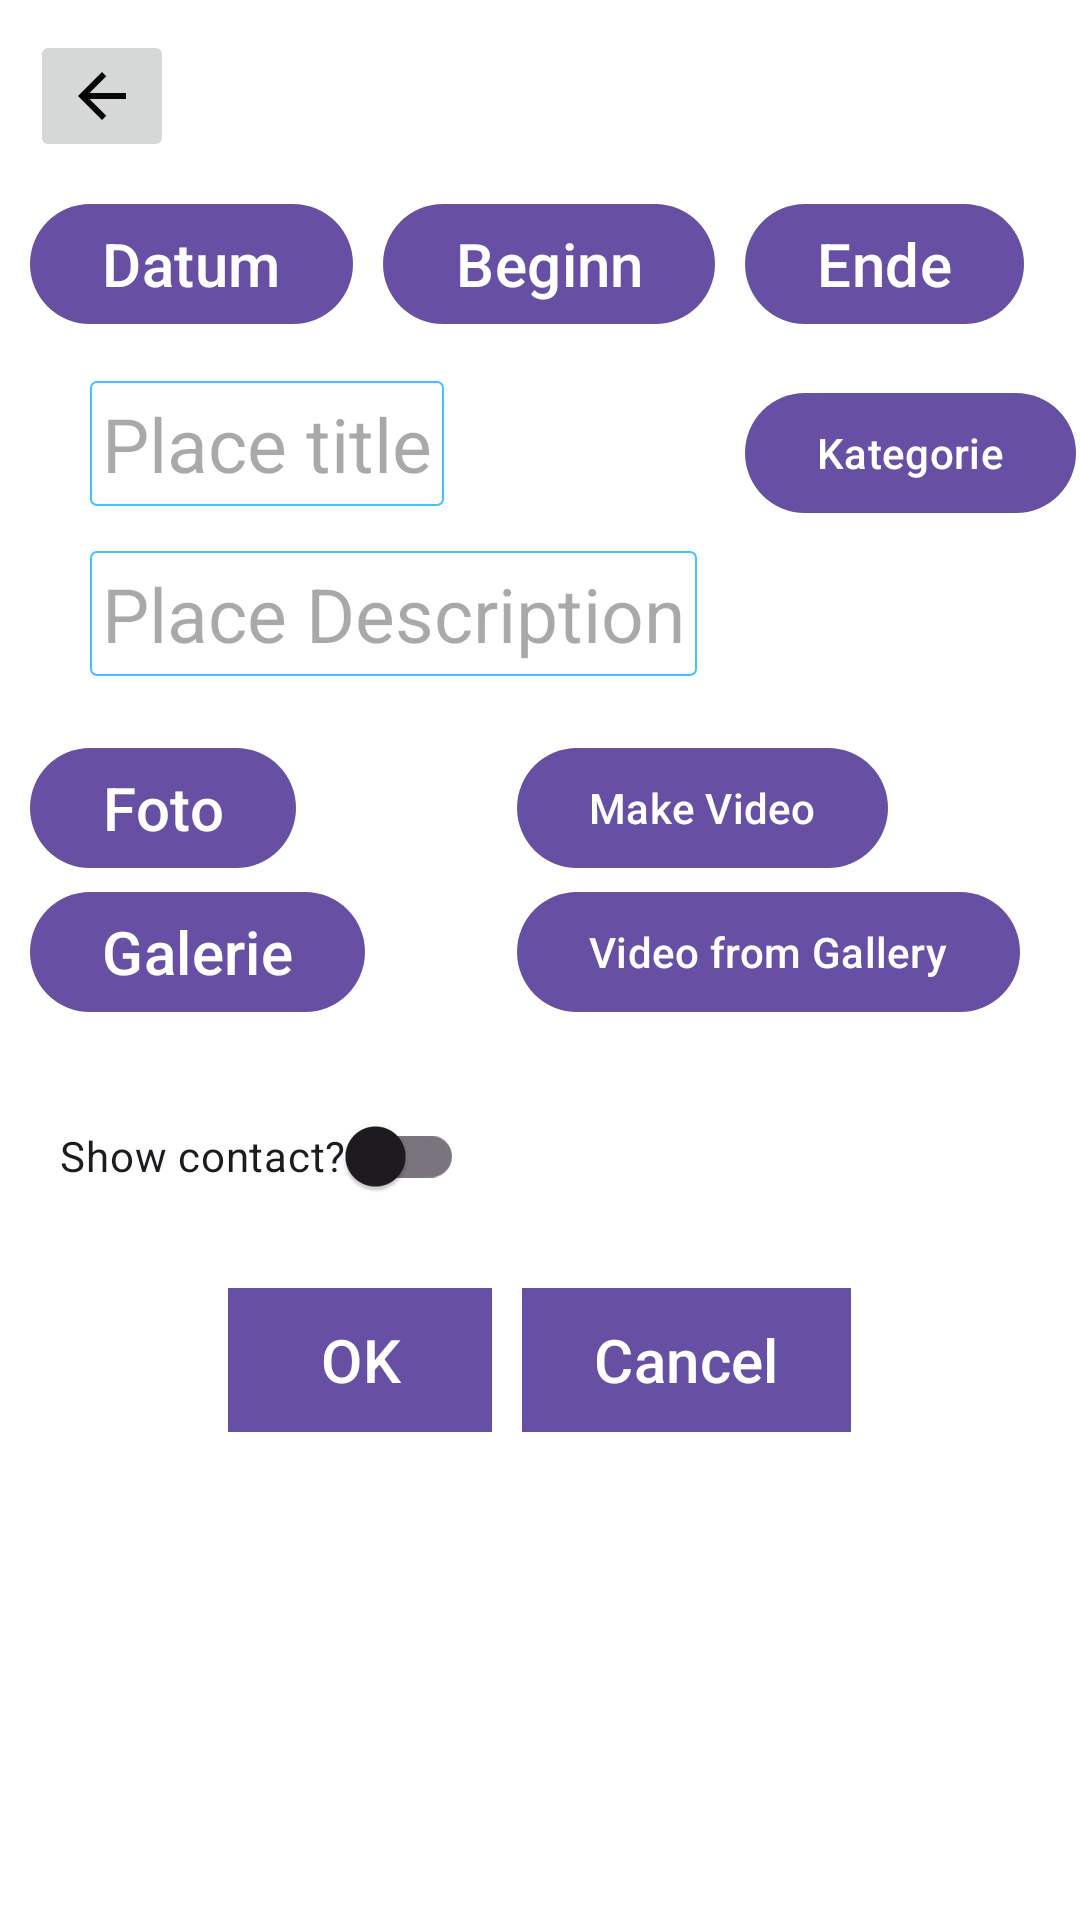

Icons on this 1080w x 1920h Android screen, each with its box as (left=x1, top=y1, right=x2, bottom=y2):
back: (left=42, top=48, right=162, bottom=144)
